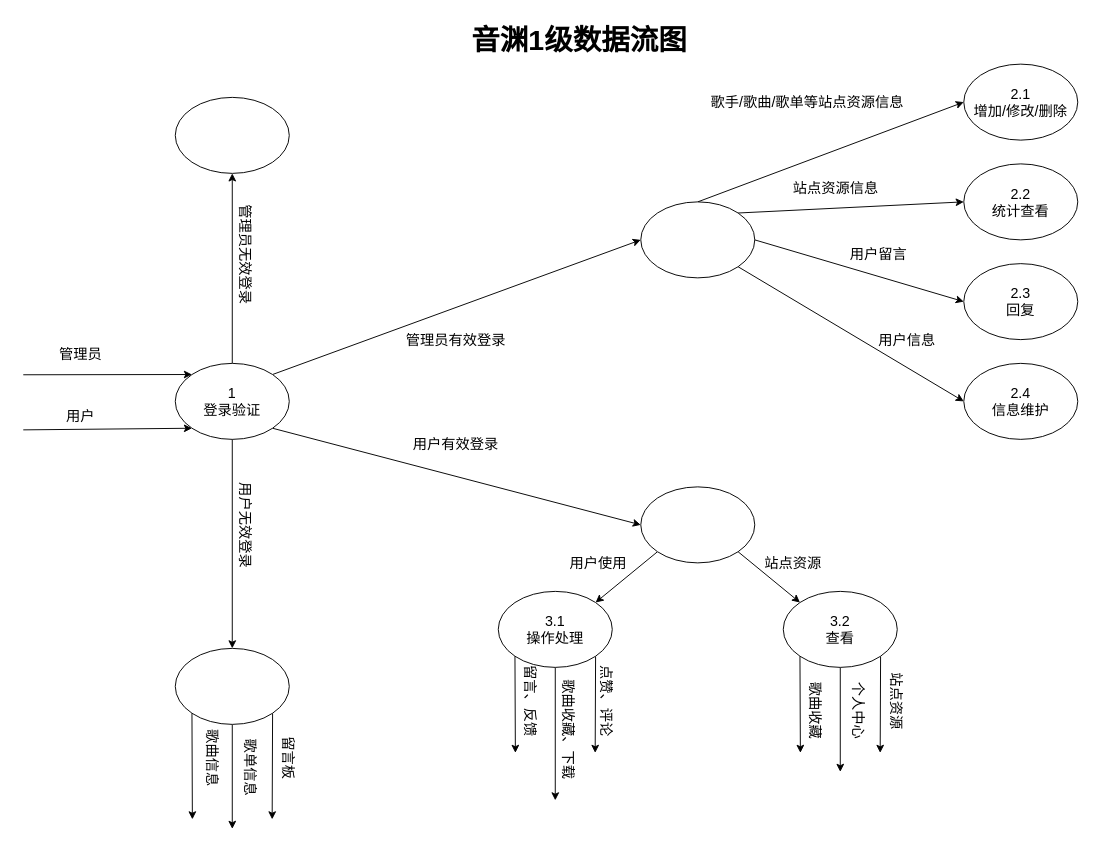
The diagram is 1094 pixels wide and 853 high, and some of its shapes have lost their labels. Each missing label, with the box of its shape:
2 站点后台使用: (640, 201, 755, 278)
3 站点前台使用: (640, 486, 755, 563)
4 站点前台查看: (174, 647, 289, 724)
5 不处理: (174, 96, 289, 173)
